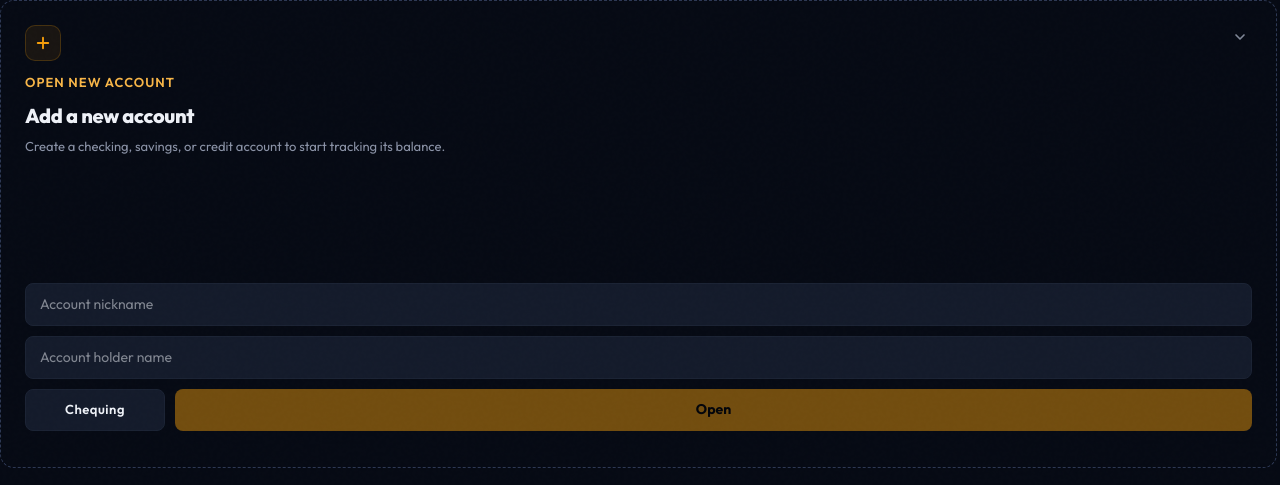
Scenario: OpenAccountCard › disables the Open button until an account holder name is entered
Expected: the button "Open" is disabled, [175, 389, 1252, 430]
Type "Alex" into the field with placeholder "Account holder name".
click(638, 358); type("Alex")  # box [25, 336, 1252, 379]
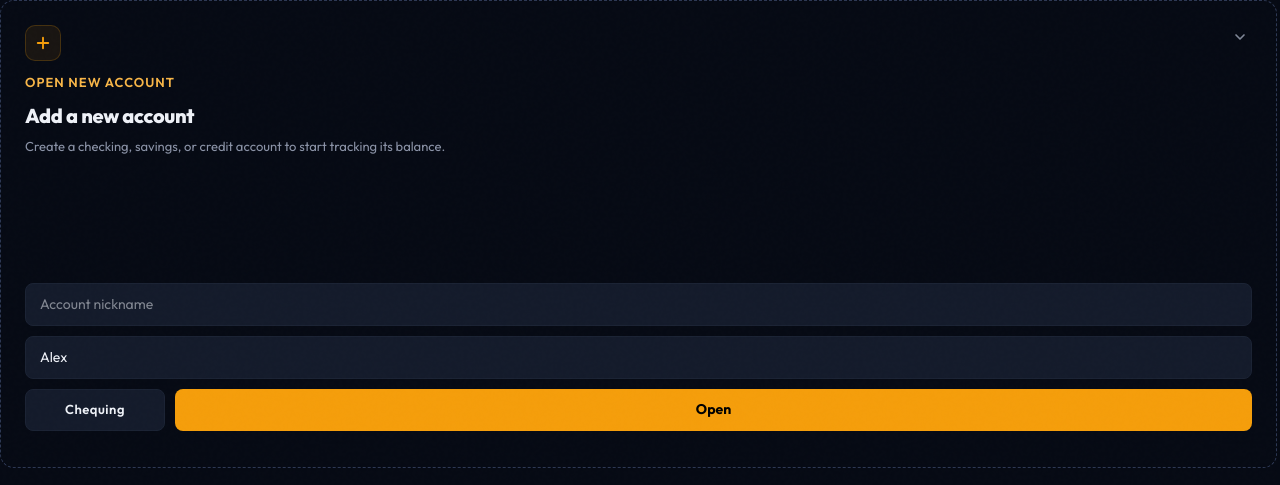
Result: the button "Open" is enabled at [175, 389, 1252, 430]
